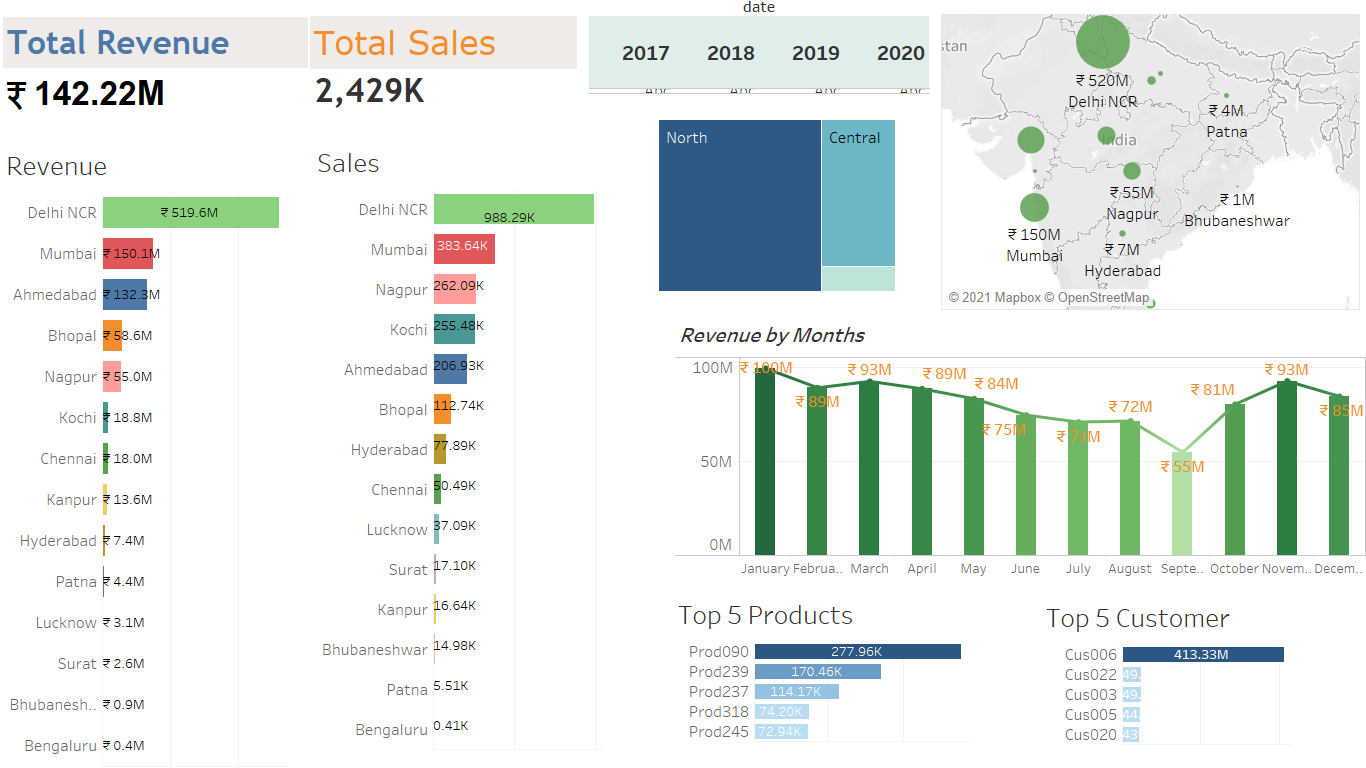

Layout of this report page (visuals, bound fields, positions):
{"tool":"tableau","page":{"name":"Sales Dashboard ","canvas":[1366,768],"ordinal":1},"visuals":[{"type":"worksheet","title":"Map","mark":"Automatic","box":[941,14,419,296]},{"type":"worksheet","title":"total sales","mark":"Automatic","box":[310,16,275,154]},{"type":"worksheet","title":"total rev","mark":"Automatic","box":[3,17,305,131]},{"type":"worksheet","title":"Zone wise rev","mark":"Automatic","box":[654,115,264,188]},{"type":"worksheet","title":"mar vs sales","mark":"Automatic","rows":["markets_name"],"cols":["sales_qty"],"box":[313,139,317,629]},{"type":"worksheet","title":"mar vs rev","mark":"Automatic","rows":["markets_name"],"cols":["Calculation_1063131051944812544"],"box":[2,142,303,624]},{"type":"worksheet","title":"Rev  by years","mark":"Bar","rows":["Calculation_1063131051944812544","Calculation_1063131051944812544"],"cols":["date"],"box":[675,314,691,264]},{"type":"worksheet","title":"top 5 product","mark":"Automatic","rows":["product_code"],"cols":["sales_qty"],"box":[674,591,350,176]},{"type":"worksheet","title":"Top5 cust","mark":"Automatic","rows":["customer_code"],"cols":["Calculation_1063131051944812544"],"box":[1042,594,306,169]}]}

Visuals, with their boxes in screenshot pixels (x1, y1, x2, y2), scaled from the page's 1366x768 canvas onto the 1366x768 screenshot:
"Map" worksheet: <region>941, 14, 1360, 310</region>
"total sales" worksheet: <region>310, 16, 585, 170</region>
"total rev" worksheet: <region>3, 17, 308, 148</region>
"Zone wise rev" worksheet: <region>654, 115, 918, 303</region>
"mar vs sales" worksheet: <region>313, 139, 630, 767</region>
"mar vs rev" worksheet: <region>2, 142, 305, 766</region>
"Rev  by years" worksheet (Bar marks): <region>675, 314, 1365, 578</region>
"top 5 product" worksheet: <region>674, 591, 1024, 767</region>
"Top5 cust" worksheet: <region>1042, 594, 1348, 763</region>
